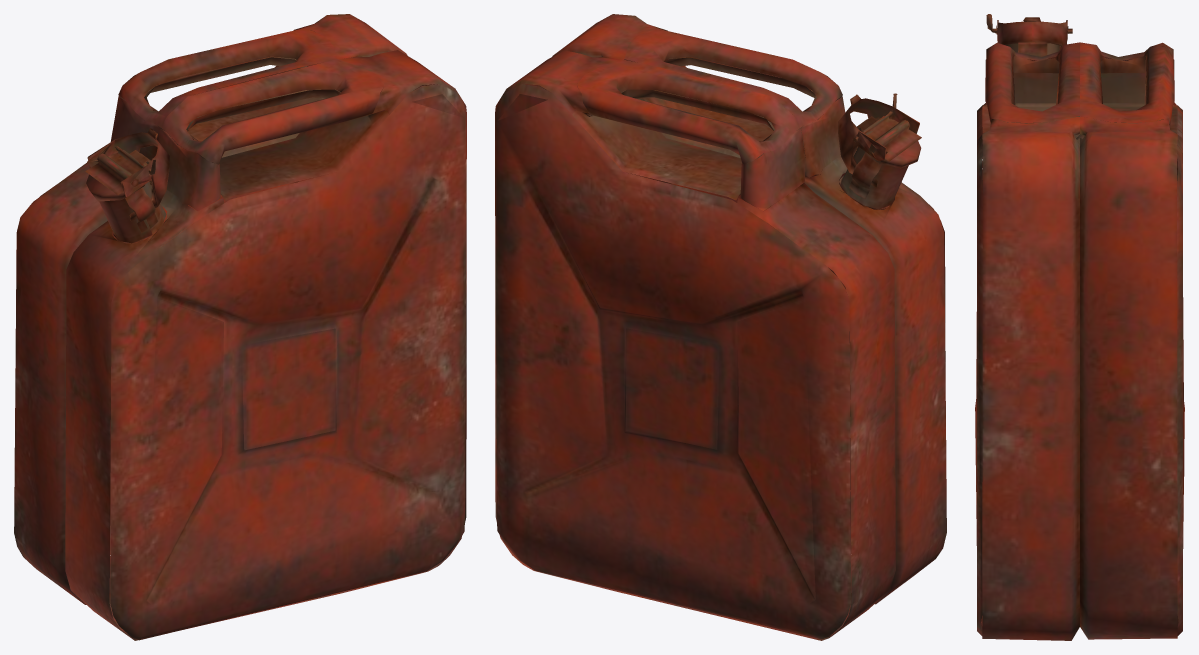
The model's file is metal_jerrycan_1k.gltf.lod.glb.
The picture shows the model from 3 angles, left to right: view 1: azimuth 30°, elevation 25°; view 2: azimuth 150°, elevation 25°; view 3: azimuth 270°, elevation 25°; orthographic projection. The views are drawn at different scales.
Parts seen in each view (by area): view 1: metal_jerrycan; view 2: metal_jerrycan; view 3: metal_jerrycan.
Part boxes in pixels (x1,y1,x2,y2): metal_jerrycan: (14,14,466,640); metal_jerrycan: (495,14,946,640); metal_jerrycan: (975,14,1184,640).
Size of the model in its own units: 0.3492 by 0.4545 by 0.1723.
Materials: 1 (1 with a texture image).
